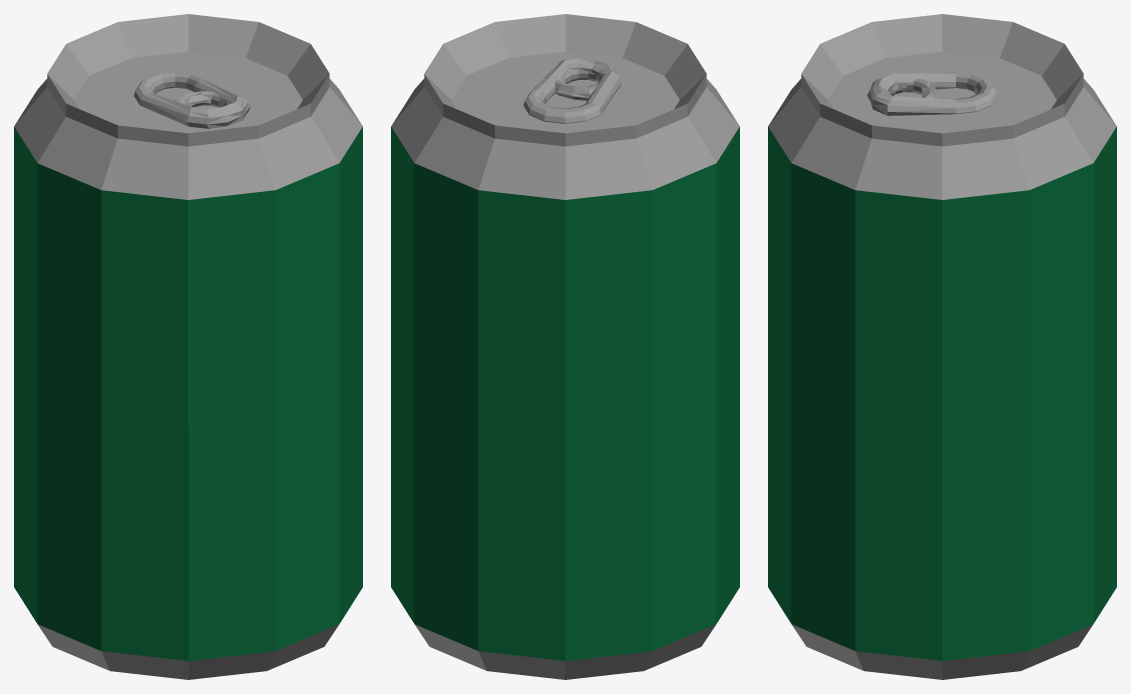
File: mtndew3.glb
3 views of the same model, side by side, from view 1: azimuth 30°, elevation 25°; view 2: azimuth 150°, elevation 25°; view 3: azimuth 270°, elevation 25° (orthographic).
Parts seen in each view (by area): view 1: Node; view 2: Node; view 3: Node.
Boxes of the visible parts, bbox=[...] form: Node: bbox=[14, 14, 362, 679]; Node: bbox=[391, 14, 739, 679]; Node: bbox=[768, 14, 1116, 679].
Size of the model in its own units: 0.24 by 0.41 by 0.24.
